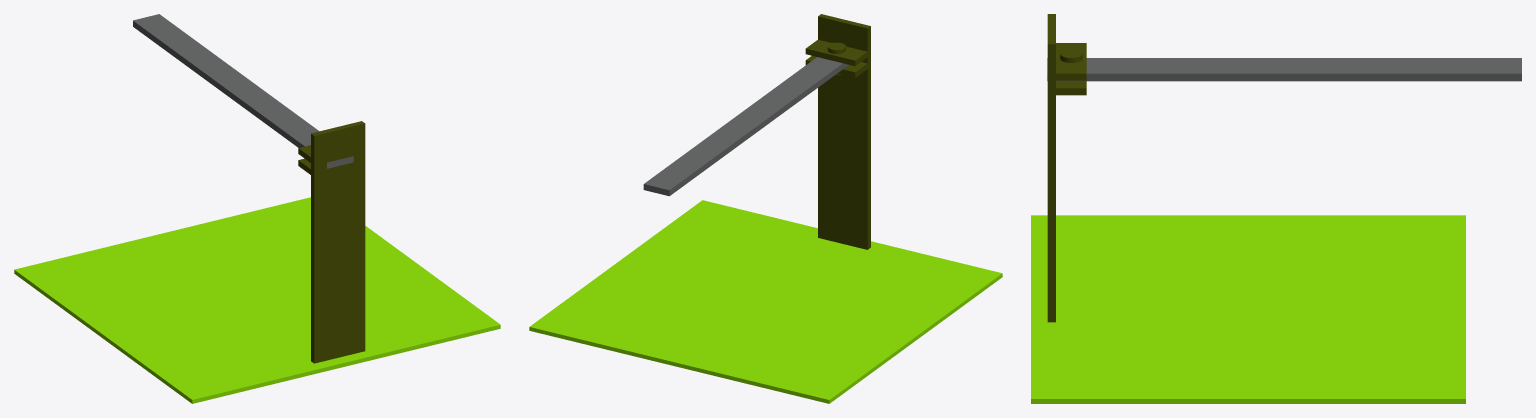
File: metal with stand.gltf
3 renders of one model, left to right at view 1: azimuth 30°, elevation 25°; view 2: azimuth 150°, elevation 25°; view 3: azimuth 270°, elevation 25°, orthographic. The views are drawn at different scales.
Visible parts, largest first — view 1: Cylinder.009; view 2: Cylinder.009; view 3: Cylinder.009.
Part boxes in pixels (box(x1,y1,x2,y2)): Cylinder.009: box(14, 14, 500, 403); Cylinder.009: box(529, 14, 1002, 403); Cylinder.009: box(1031, 14, 1521, 403).
Bounding box in the file's own units: 3.64 × 2.61 × 4.11.
